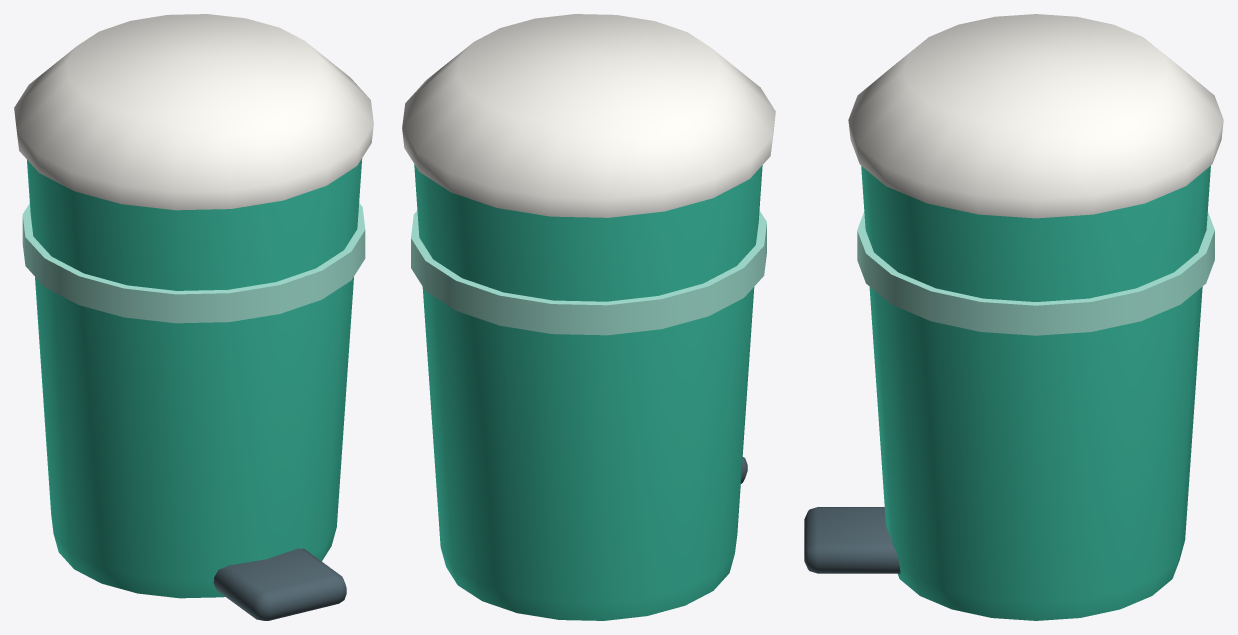
Rendered from trash_bin.glb.
3 views of the same model, side by side, from view 1: azimuth 30°, elevation 25°; view 2: azimuth 150°, elevation 25°; view 3: azimuth 270°, elevation 25° (orthographic). The views are drawn at different scales.
Visible parts, largest first — view 1: TrashBin; view 2: TrashBin; view 3: TrashBin.
Part boxes in pixels (box(x1,y1,x2,y2)): TrashBin: box(14, 14, 373, 620); TrashBin: box(402, 14, 775, 620); TrashBin: box(804, 14, 1223, 620).
Bounding box in the file's own units: 0.34 × 0.5 × 0.38.
